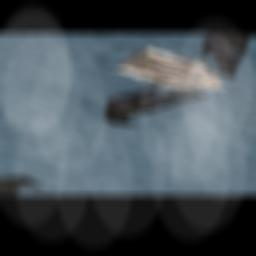Crow: (85, 74, 212, 135)
